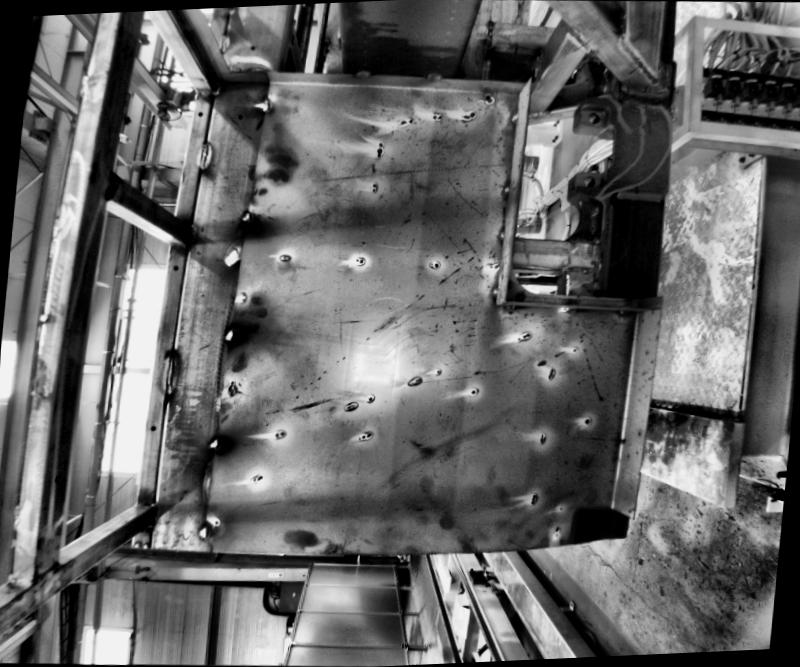hole: (579, 175, 594, 190), (584, 112, 600, 126), (170, 264, 177, 272), (107, 182, 113, 190), (184, 232, 190, 238), (482, 94, 487, 101), (148, 513, 152, 520), (236, 115, 241, 120), (248, 45, 253, 50), (149, 426, 154, 431), (196, 112, 200, 116)
welding: (616, 40, 656, 82), (565, 25, 590, 51), (164, 351, 176, 401), (206, 432, 224, 455), (237, 208, 254, 228), (216, 30, 229, 56), (195, 140, 206, 169), (260, 96, 272, 116), (421, 70, 440, 82), (107, 173, 116, 198), (507, 108, 520, 123), (196, 523, 209, 538), (222, 328, 234, 344), (145, 506, 154, 527), (184, 226, 193, 247), (559, 307, 579, 313), (501, 184, 510, 195), (490, 286, 498, 298), (354, 70, 366, 78), (618, 311, 628, 316), (504, 304, 513, 309), (498, 231, 502, 239)
